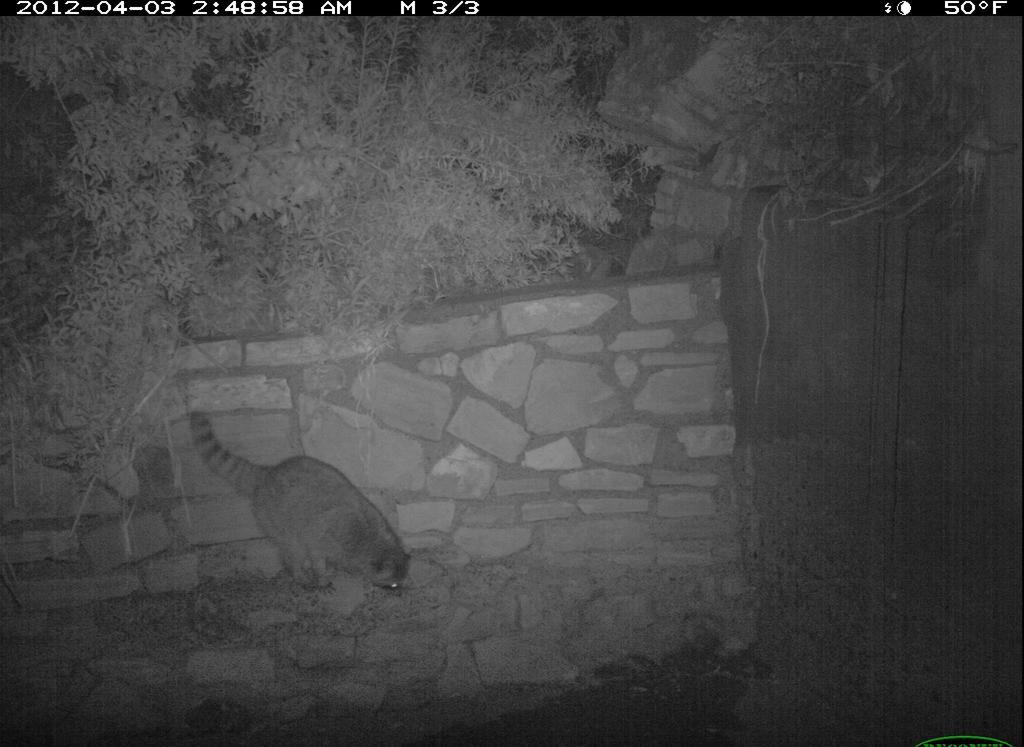raccoon: (181, 406, 417, 602)
